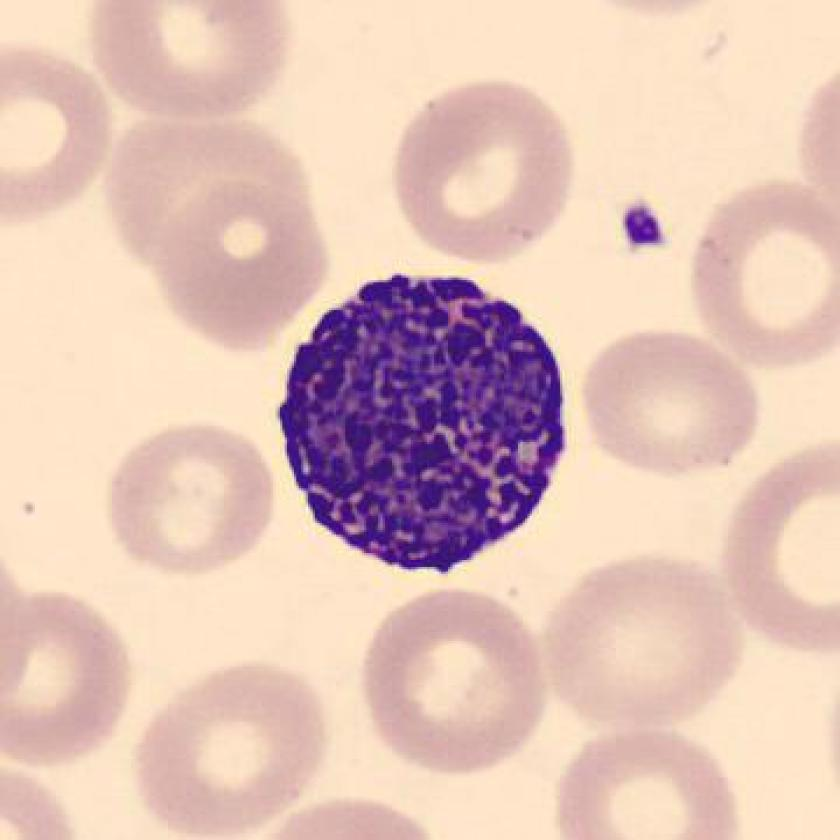basophil: (267, 263, 577, 577)
